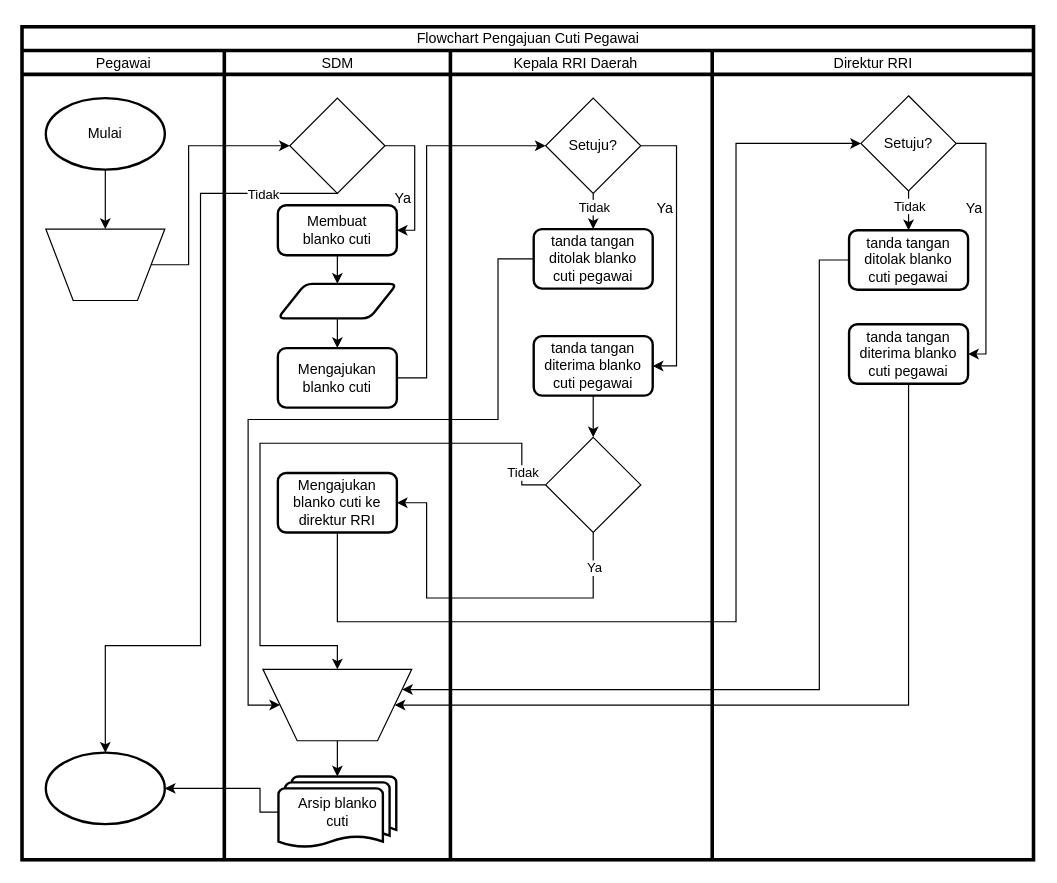
This 1057x883 diagram has some shape labels left out. The shapes that lost their labels are listed below. From the top down, each one's centre as x and y in pixels, then its label:
the point at 337,145: Masih ada sisa cuti?
the point at 105,264: Mengajukan Cuti
the point at 336,300: Blanko cuti
the point at 592,484: Cuti sakit?
the point at 337,704: Blanko cuti dicetak di kertas
the point at 104,788: Selesai
